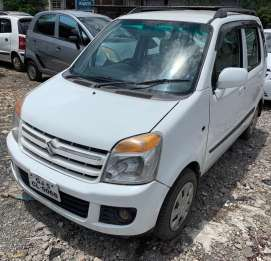license_plate: (29, 171, 61, 205)
